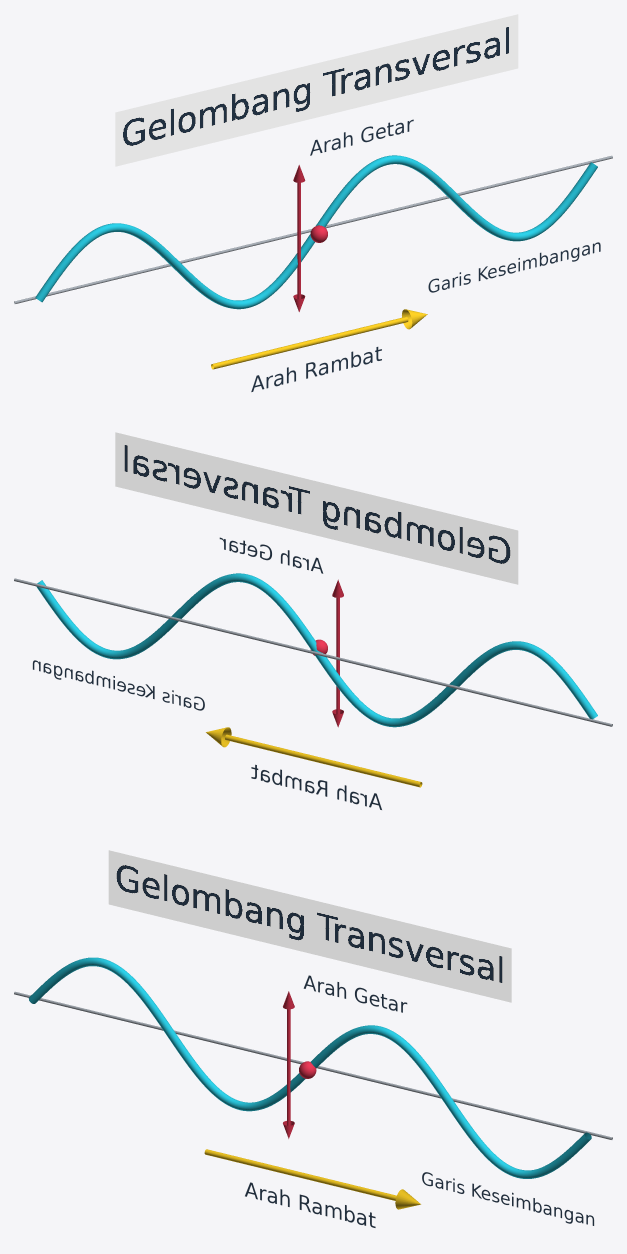
Rendered from gelombang-transversal-animasi.glb.
3 renders of one model, top to bottom at view 1: azimuth 30°, elevation 25°; view 2: azimuth 150°, elevation 25°; view 3: azimuth 330°, elevation 25°, orthographic.
Parts seen in each view (by area): view 1: Gelombang Transversal, Tali gelombang, Garis keseimbangan, Batang arah rambat, Garis Keseimbangan, Arah Rambat, Arah Getar; view 2: Gelombang Transversal, Tali gelombang, Garis keseimbangan, Batang arah rambat, Garis Keseimbangan, Arah Rambat, Arah Getar; view 3: Gelombang Transversal, Tali gelombang, Garis keseimbangan, Batang arah rambat, Garis Keseimbangan, Arah Rambat, Arah Getar.
Boxes of the visible parts, x1=… form: Gelombang Transversal: x1=115, y1=14, x2=518, y2=166; Tali gelombang: x1=35, y1=155, x2=597, y2=309; Garis keseimbangan: x1=14, y1=155, x2=612, y2=303; Batang arah rambat: x1=211, y1=316, x2=408, y2=369; Garis Keseimbangan: x1=428, y1=242, x2=600, y2=292; Arah Rambat: x1=251, y1=346, x2=381, y2=392; Arah Getar: x1=310, y1=119, x2=413, y2=155; Gelombang Transversal: x1=115, y1=432, x2=518, y2=584; Tali gelombang: x1=36, y1=573, x2=597, y2=727; Garis keseimbangan: x1=14, y1=578, x2=612, y2=726; Batang arah rambat: x1=225, y1=734, x2=422, y2=787; Garis Keseimbangan: x1=32, y1=660, x2=204, y2=710; Arah Rambat: x1=251, y1=764, x2=381, y2=810; Arah Getar: x1=219, y1=537, x2=323, y2=573; Gelombang Transversal: x1=108, y1=850, x2=511, y2=1002; Tali gelombang: x1=28, y1=957, x2=591, y2=1178; Garis keseimbangan: x1=14, y1=991, x2=612, y2=1139; Batang arah rambat: x1=204, y1=1149, x2=396, y2=1200; Garis Keseimbangan: x1=422, y1=1172, x2=594, y2=1225; Arah Rambat: x1=245, y1=1182, x2=375, y2=1227; Arah Getar: x1=303, y1=975, x2=407, y2=1012.
Size of the model in its own units: 8.6 by 4.45 by 0.305.
Materials: 8 (4 with a texture image).
